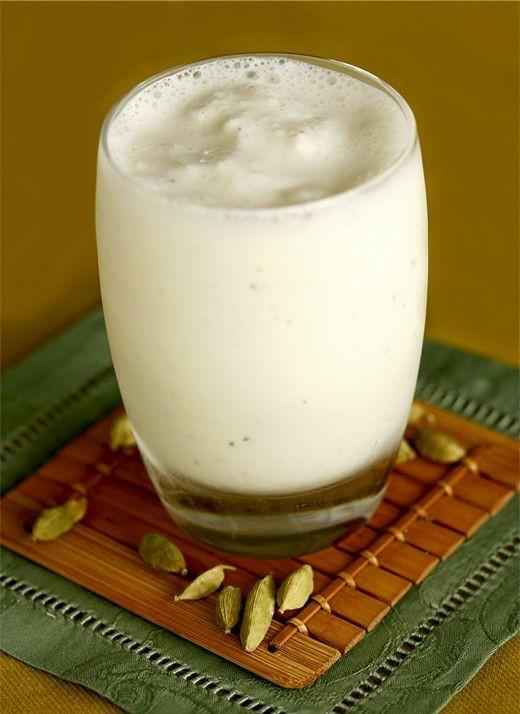Lassi: (94, 56, 429, 490)
